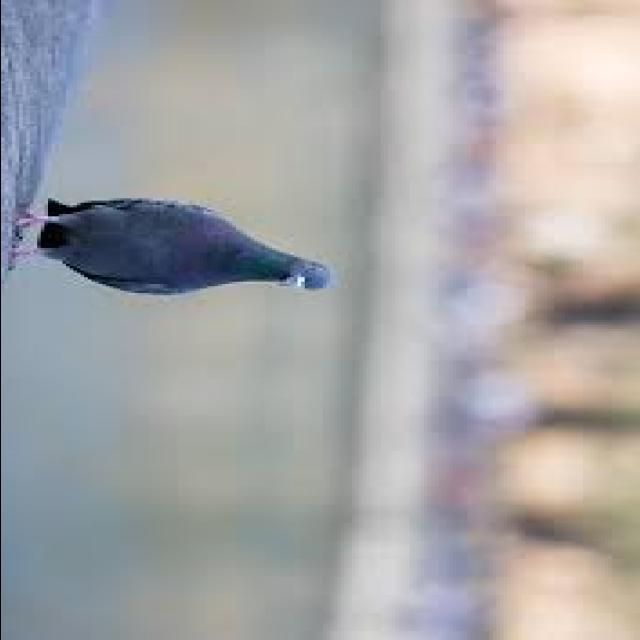pigeon: (0, 194, 338, 321)
